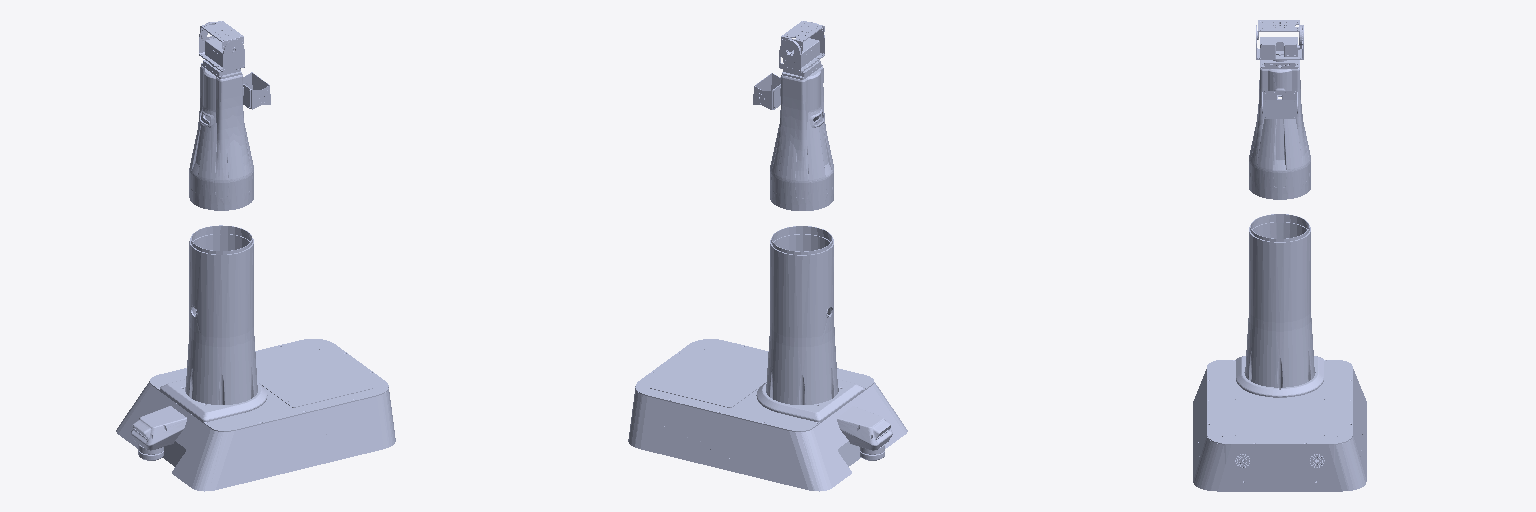
The robot description file, URDF, robot "Cobot_S_v3":
<?xml version="1.0" encoding="utf-8"?>
<!-- This URDF was automatically created by SolidWorks to URDF Exporter! Originally created by [author] ([email redacted]) 
     Commit Version: 1.6.0-4-g7f85cfe  Build Version: 1.6.7995.38578
     For more information, please see http://wiki.ros.org/sw_urdf_exporter -->
<robot
  name="Cobot_S_v3">
  <link
    name="base_link">
    <inertial>
      <origin
        xyz="0.00032339 -0.15741 -1.7229E-05"
        rpy="0 0 3.14" />
      <mass
        value="15.012" />
      <inertia
        ixx="0.094248"
        ixy="-0.00011236"
        ixz="-5.7467E-06"
        iyy="0.23735"
        iyz="1.0708E-05"
        izz="0.1908" />
    </inertial>
    <visual>
      <origin
        xyz="0 0 0"
        rpy="0 0 0" />
      <geometry>
        <mesh
          filename="package://Cobot_S_v3/meshes/base_link.STL" />
      </geometry>
      <material
        name="">
        <color
          rgba="0.79216 0.81961 0.93333 1" />
      </material>
    </visual>
    <collision>
      <origin
        xyz="0 0 0"
        rpy="0 0 0" />
      <geometry>
        <mesh
          filename="package://Cobot_S_v3/meshes/base_link.STL" />
      </geometry>
    </collision>
  </link>
  <link
    name="box_Link">
    <inertial>
      <origin
        xyz="-3.6999E-06 0.082598 0.0013094"
        rpy="0 0 0" />
      <mass
        value="1.6819" />
      <inertia
        ixx="0.060437"
        ixy="-2.3412E-05"
        ixz="-0.00014458"
        iyy="0.096833"
        iyz="-0.00044603"
        izz="0.04155" />
    </inertial>
    <visual>
      <origin
        xyz="0 0 0"
        rpy="0 0 0" />
      <geometry>
        <mesh
          filename="package://Cobot_S_v3/meshes/box_Link.STL" />
      </geometry>
      <material
        name="">
        <color
          rgba="0.79216 0.81961 0.93333 1" />
      </material>
    </visual>
    <collision>
      <origin
        xyz="0 0 0"
        rpy="0 0 0" />
      <geometry>
        <mesh
          filename="package://Cobot_S_v3/meshes/box_Link.STL" />
      </geometry>
    </collision>
  </link>
  <joint
    name="box_joint"
    type="fixed">
    <origin
      xyz="0.03 0 0.019"
      rpy="1.5707963267949 0 1.5707963267949" />
    <parent
      link="base_link" />
    <child
      link="box_Link" />
    <axis
      xyz="0 0 0" />
  </joint>
  <link
    name="box2_Link">
    <inertial>
      <origin
        xyz="-0.0005318 -0.60095 0.0031379"
        rpy="0 0 0" />
      <mass
        value="1.5028" />
      <inertia
        ixx="0.0267"
        ixy="1.9026E-05"
        ixz="-4.3371E-07"
        iyy="0.0090062"
        iyz="8.4655E-06"
        izz="0.027105" />
    </inertial>
    <visual>
      <origin
        xyz="0 0 0"
        rpy="0 0 0" />
      <geometry>
        <mesh
          filename="package://Cobot_S_v3/meshes/box2_Link.STL" />
      </geometry>
      <material
        name="">
        <color
          rgba="0.79216 0.81961 0.93333 1" />
      </material>
    </visual>
    <collision>
      <origin
        xyz="0 0 0"
        rpy="0 0 0" />
      <geometry>
        <mesh
          filename="package://Cobot_S_v3/meshes/box2_Link.STL" />
      </geometry>
    </collision>
  </link>
  <joint
    name="box2_joint"
    type="fixed">
    <origin
      xyz="0 0.15070060913146 -0.115129510429125"
      rpy="0 0 3.14159265358979" />
    <parent
      link="box_Link" />
    <child
      link="box2_Link" />
    <axis
      xyz="0 0 0" />
  </joint>
  <link
    name="laser_Link">
    <inertial>
      <origin
        xyz="-1.4306E-10 0.00033957 -9.7739E-05"
        rpy="0 0 0" />
      <mass
        value="0.15461" />
      <inertia
        ixx="7.026E-05"
        ixy="5.3344E-13"
        ixz="-7.2156E-13"
        iyy="9.809E-05"
        iyz="2.6705E-07"
        izz="6.9515E-05" />
    </inertial>
    <visual>
      <origin
        xyz="0 0 0"
        rpy="0 0 0" />
      <geometry>
        <mesh
          filename="package://Cobot_S_v3/meshes/laser_Link.STL" />
      </geometry>
      <material
        name="">
        <color
          rgba="0.79216 0.81961 0.93333 1" />
      </material>
    </visual>
    <collision>
      <origin
        xyz="0 0 0"
        rpy="0 0 0" />
      <geometry>
        <mesh
          filename="package://Cobot_S_v3/meshes/laser_Link.STL" />
      </geometry>
    </collision>
  </link>
  <joint
    name="laser_joint"
    type="fixed">
    <origin
      xyz="8.4072979394E-05 0.112212262088961 -0.226657362932786"
      rpy="3.14159265358979 0 0" />
    <parent
      link="box2_Link" />
    <child
      link="laser_Link" />
    <axis
      xyz="0 0 0" />
  </joint>
  <link
    name="front_camera_link">
    <inertial>
      <origin
        xyz="-0.011608 -0.00029955 9.239E-05"
        rpy="0 0 0" />
      <mass
        value="0.018613" />
      <inertia
        ixx="1.0577E-05"
        ixy="7.2773E-09"
        ixz="-2.4274E-08"
        iyy="1.7666E-06"
        iyz="-8.1447E-07"
        izz="9.9387E-06" />
    </inertial>
    <visual>
      <origin
        xyz="0 0 0"
        rpy="0 0 0" />
      <geometry>
        <mesh
          filename="package://Cobot_S_v3/meshes/front_camera_link.STL" />
      </geometry>
      <material
        name="">
        <color
          rgba="0.79216 0.81961 0.93333 1" />
      </material>
    </visual>
    <collision>
      <origin
        xyz="0 0 0"
        rpy="0 0 0" />
      <geometry>
        <mesh
          filename="package://Cobot_S_v3/meshes/front_camera_link.STL" />
      </geometry>
    </collision>
  </link>
  <joint
    name="front_camera_link"
    type="fixed">
    <origin
      xyz="0 0.0626918662027209 0.0329781847943241"
      rpy="-0.0973260985076172 -1.21463557336873 -1.5707963267949" />
    <parent
      link="laser_Link" />
    <child
      link="front_camera_link" />
    <axis
      xyz="0 0 0" />
  </joint>
</robot>

--- What the picture shows (computed from the rendered views, not written in the file) ---
Views: 3 orthographic renders of the robot side by side, from view 1: azimuth 30°, elevation 25°; view 2: azimuth 150°, elevation 25°; view 3: azimuth 270°, elevation 25°.
Model Cobot_S_v3 with 5 links and 4 joints (4 fixed), rooted at base_link, posed every joint at zero.
Links seen in each view (by area): view 1: box_Link, box2_Link; view 2: box_Link, box2_Link; view 3: box_Link, box2_Link.
Link boxes in pixels (x1,y1,x2,y2): box_Link: [116, 339, 395, 491]; box2_Link: [186, 21, 270, 404]; box_Link: [628, 339, 907, 491]; box2_Link: [753, 21, 837, 404]; box_Link: [1193, 356, 1366, 491]; box2_Link: [1245, 20, 1314, 387].
Size in the robot's own frame: 0.7148 by 0.5 by 1.27 metres.
Meshes: 5 distinct files referenced, 4 mesh visuals loaded (4 binary STL); not drawn: 1 (reference not matched to a file when rendering).